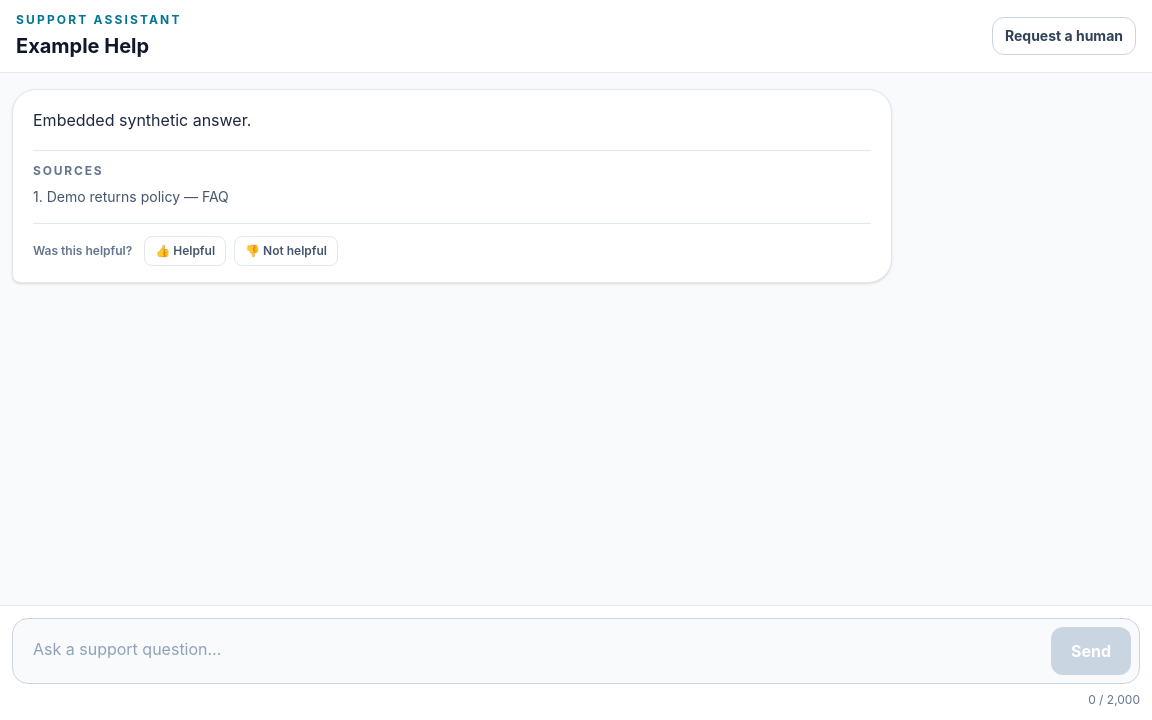
it: hosted customer chat page › restores embedded history, citations and feedback and records a human request
Expected: the text "Embedded synthetic answer." is shown, [33,110,251,130]
Expected: the list item "1. Demo returns policy — FAQ" is shown, [33,188,229,205]
What coordinates should you click on to do the following:
click the button with aria-label "mark this answer as helpful"
I would click on:
 (185, 251)
Its box is [144,236,226,266].
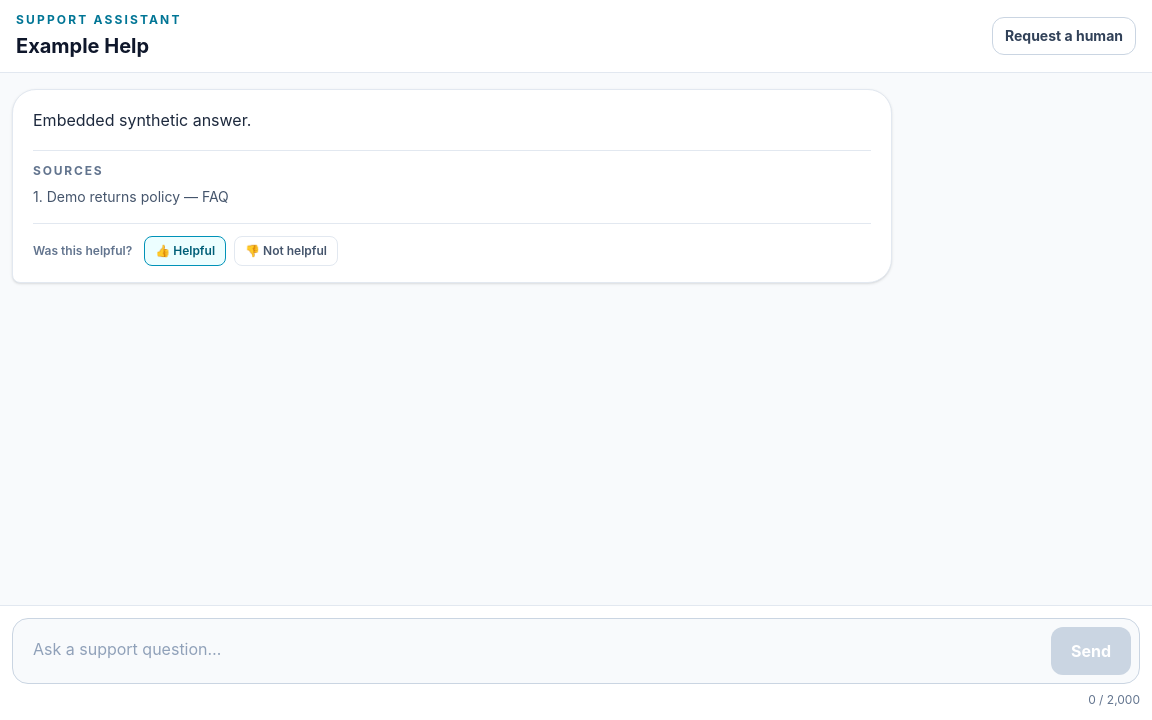
What coordinates should you click on to do the following:
click the button "Request a human"
I would click on:
 (1064, 36)
Its box is [992,17,1136,55].
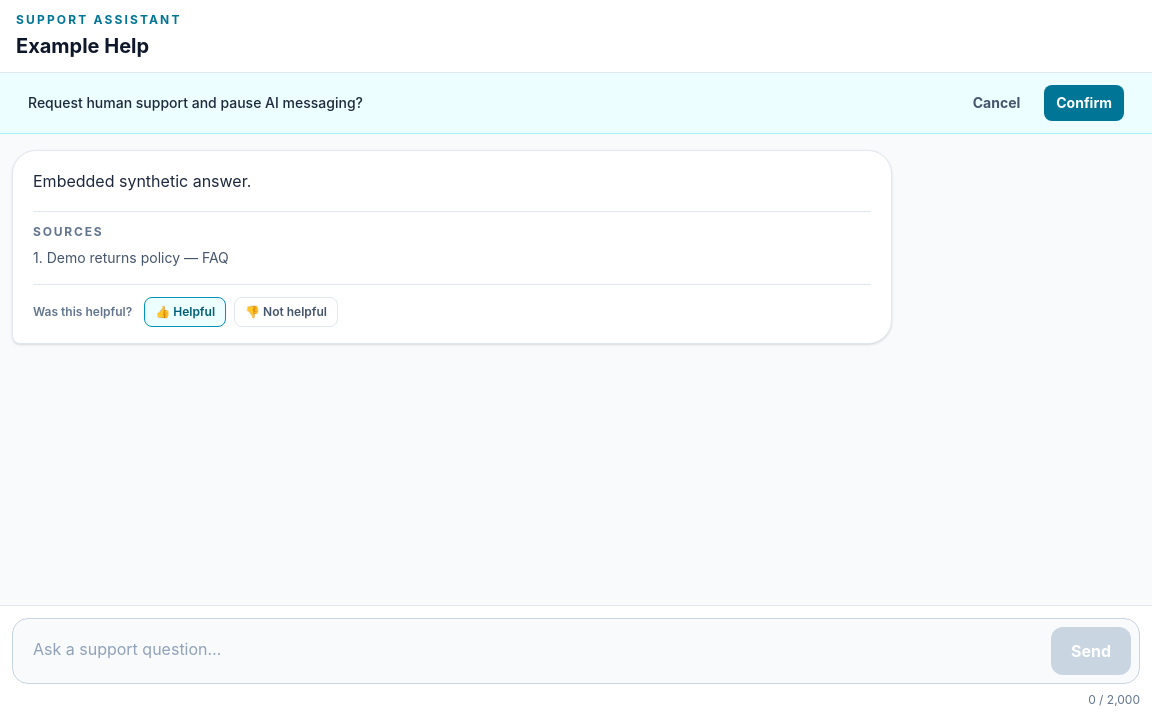
What coordinates should you click on to do the following:
click the button "Confirm"
I would click on:
 (1084, 103)
Its box is [1044,85,1124,121].
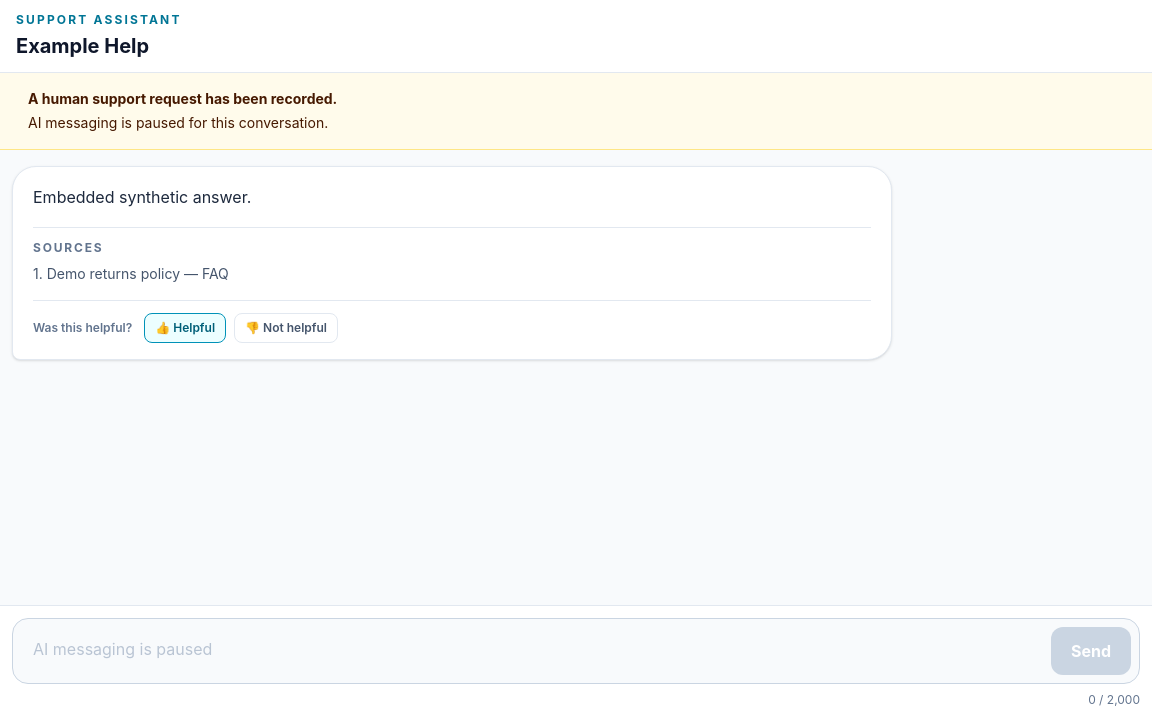
Expected: the text "AI messaging is paused for this conversation." is shown, [28,114,328,131]
Expected: the text box named "Message" is disabled, [21,627,1039,675]
